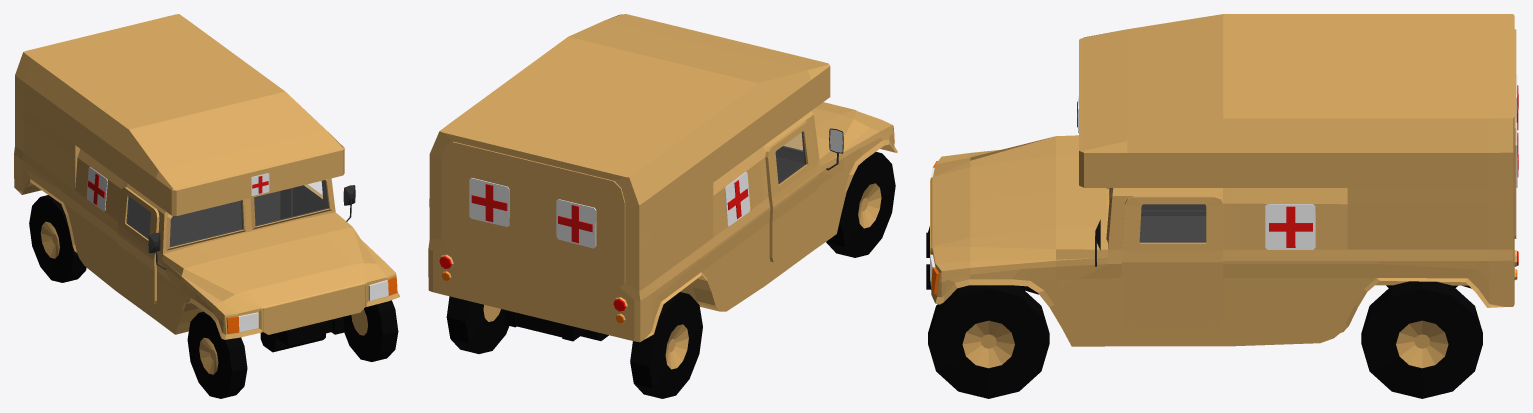
The picture shows the model from 3 angles, left to right: view 1: azimuth 30°, elevation 25°; view 2: azimuth 150°, elevation 25°; view 3: azimuth 270°, elevation 25°; orthographic projection. The views are drawn at different scales.
Parts seen in each view (by area): view 1: Plane.021, Plane.022, Plane.025, Plane.024, Cylinder.014, Cylinder.013, Cylinder.012, Plane.023; view 2: Plane.021, Plane.027, Plane.026, Plane.024, Cylinder.013, Cylinder.014, Cylinder.015, Plane.025; view 3: Plane.021, Plane.023, Cylinder.015, Cylinder.012, Plane.025, Plane.026.
Part boxes in pixels (x1,y1,x2,y2): Plane.021: [14, 14, 399, 352]; Plane.022: [170, 180, 328, 246]; Plane.025: [128, 180, 328, 247]; Plane.024: [117, 187, 159, 304]; Cylinder.014: [187, 311, 247, 398]; Cylinder.013: [29, 195, 86, 282]; Cylinder.012: [342, 300, 398, 361]; Plane.023: [292, 180, 327, 216]; Plane.021: [428, 14, 897, 342]; Plane.027: [533, 161, 625, 287]; Plane.026: [441, 141, 533, 266]; Plane.024: [765, 121, 817, 262]; Cylinder.013: [630, 292, 702, 398]; Cylinder.014: [826, 152, 895, 257]; Cylinder.015: [446, 296, 509, 353]; Plane.025: [775, 146, 804, 182]; Plane.021: [926, 14, 1518, 346]; Plane.023: [1121, 196, 1222, 326]; Cylinder.015: [1361, 281, 1482, 398]; Cylinder.012: [928, 285, 1049, 398]; Plane.025: [1109, 188, 1206, 242]; Plane.026: [1514, 73, 1518, 238].
Bounding box in the file's own units: 242 × 226 × 438.
